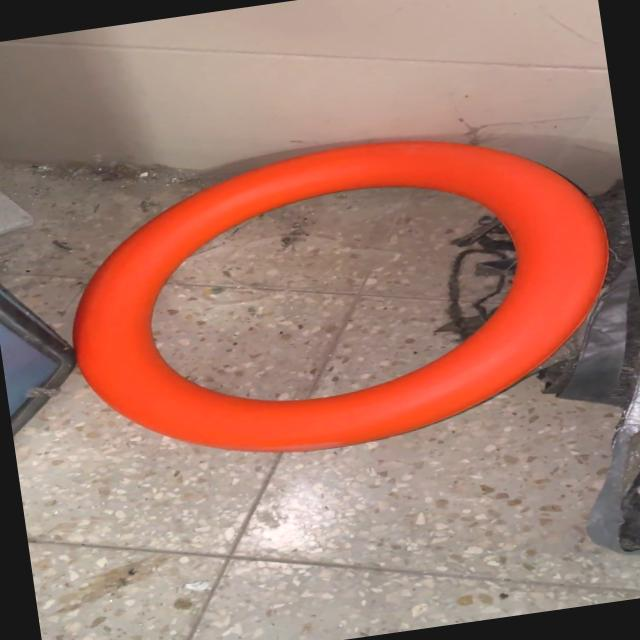note: (47, 110, 634, 485)
